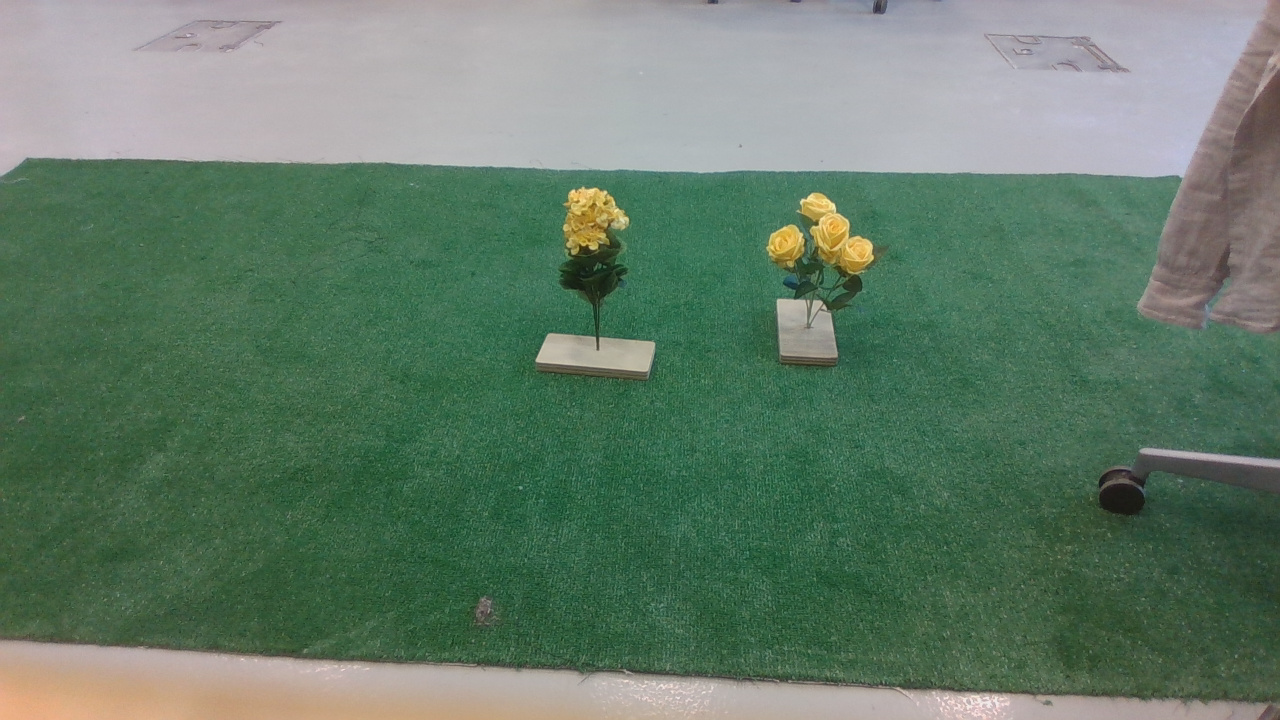geranium: (553, 178, 642, 316)
rose: (766, 190, 892, 301)
